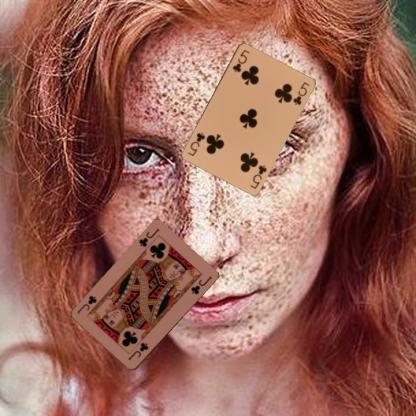5c: (247, 162, 268, 190), (230, 47, 251, 73)
Jc: (125, 340, 150, 362), (136, 226, 161, 248)
